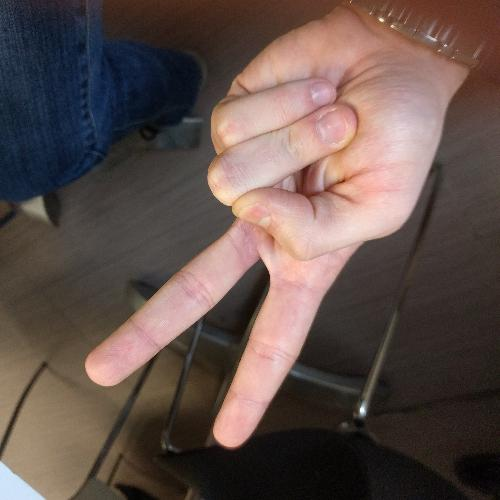scissors: (82, 4, 473, 452)
